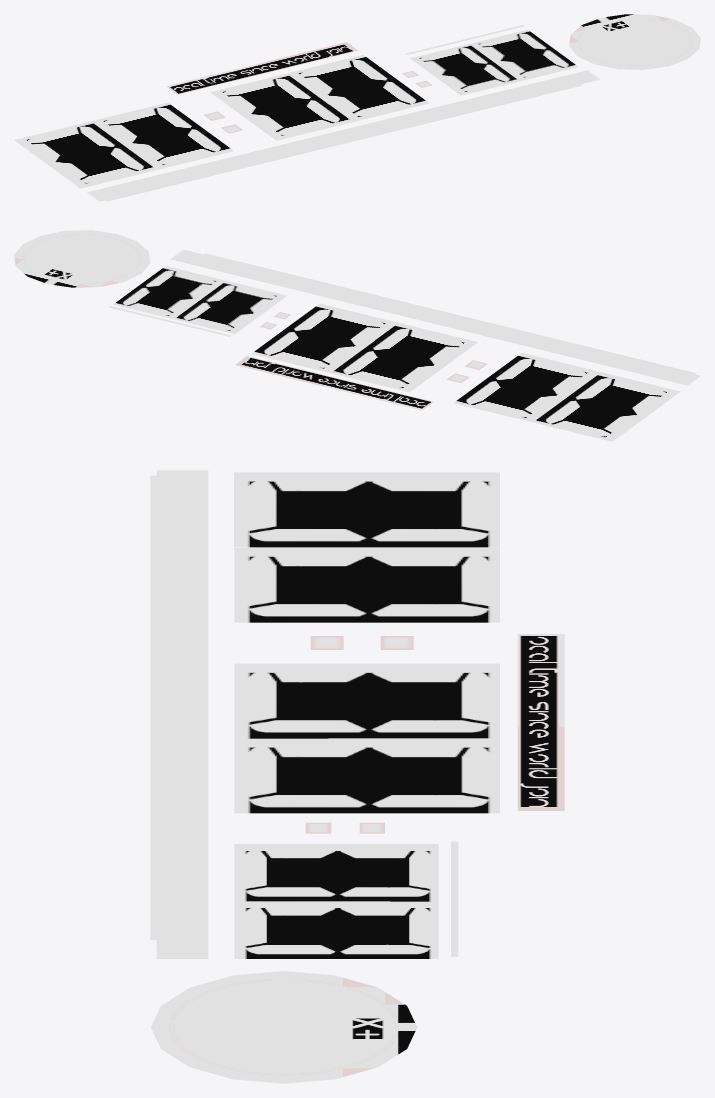
The model's file is Neitri's Clock V3 A.fbx.
The picture shows the model from 3 angles, top to bottom: view 1: azimuth 30°, elevation 25°; view 2: azimuth 150°, elevation 25°; view 3: azimuth 270°, elevation 25°; orthographic projection. The views are drawn at different scales.
Parts seen in each view (by area): view 1: clock; view 2: clock; view 3: clock.
Part boxes in pixels (box(x1,y1,x2,y2)): clock: box(14, 14, 700, 201); clock: box(14, 230, 700, 441); clock: box(150, 470, 564, 1083).
Size of the model in its own units: 6.27 by 0.0182 by 1.8.
1 material, 1 textured.
